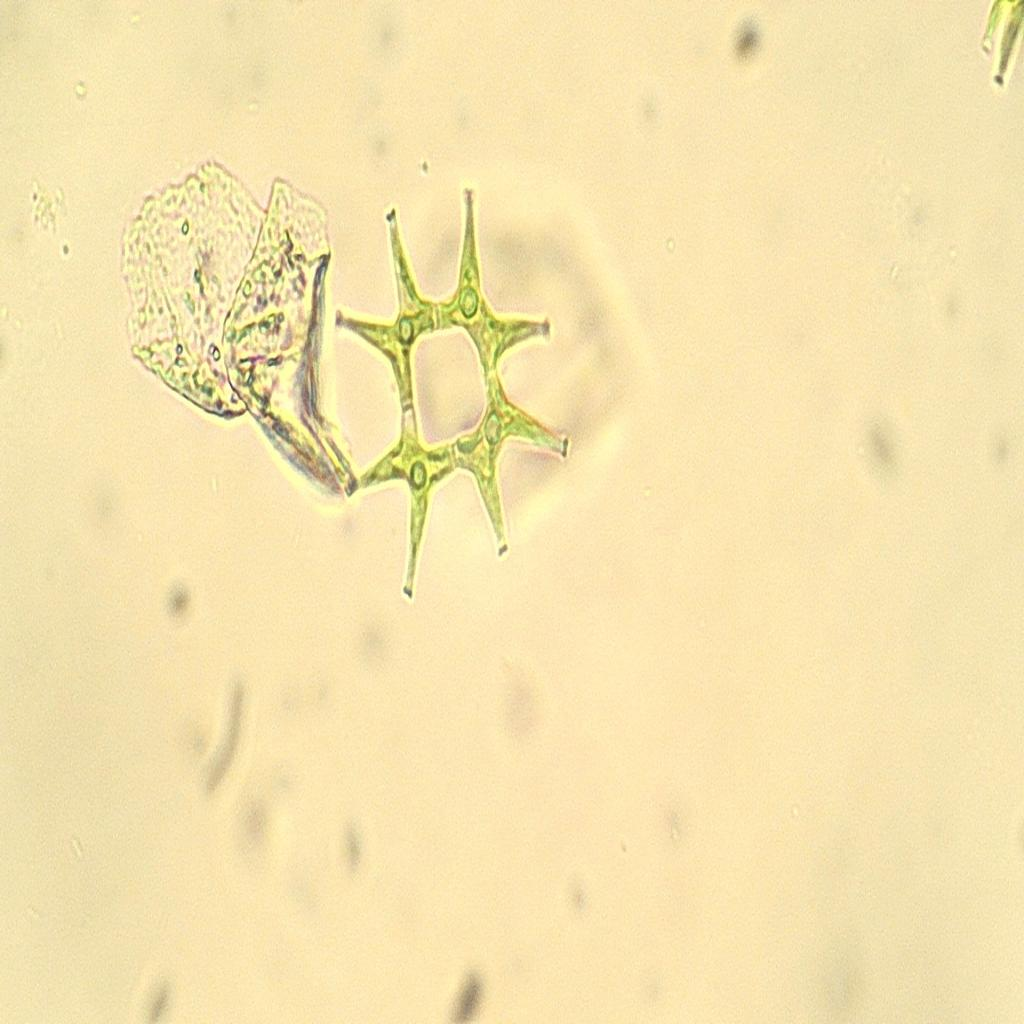Pediastrum_CO: (306, 162, 592, 617)
